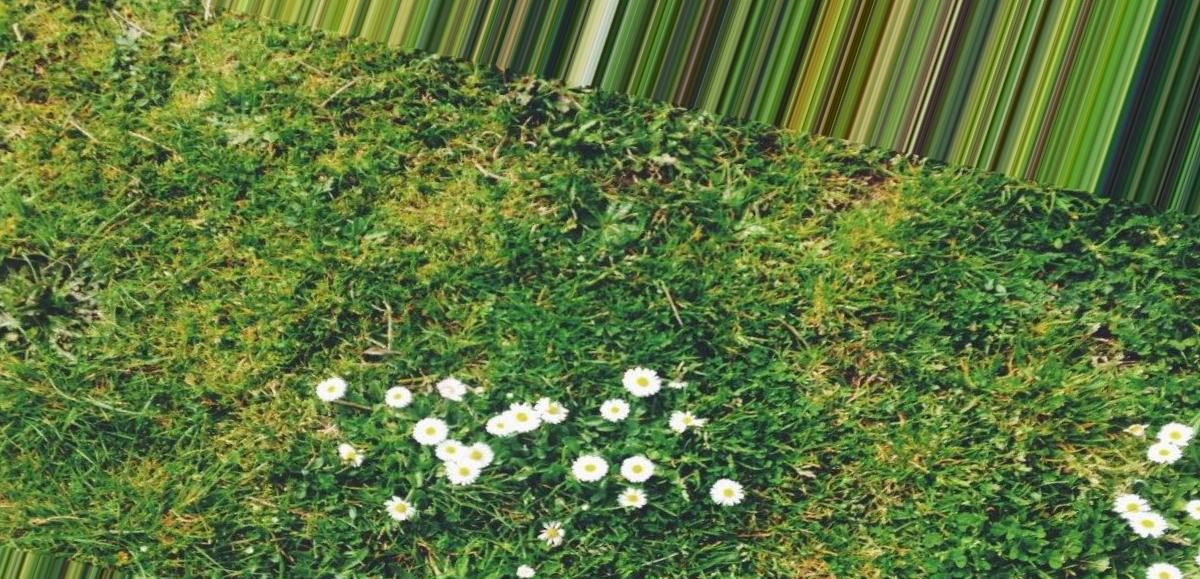patch: (785, 472, 871, 569)
